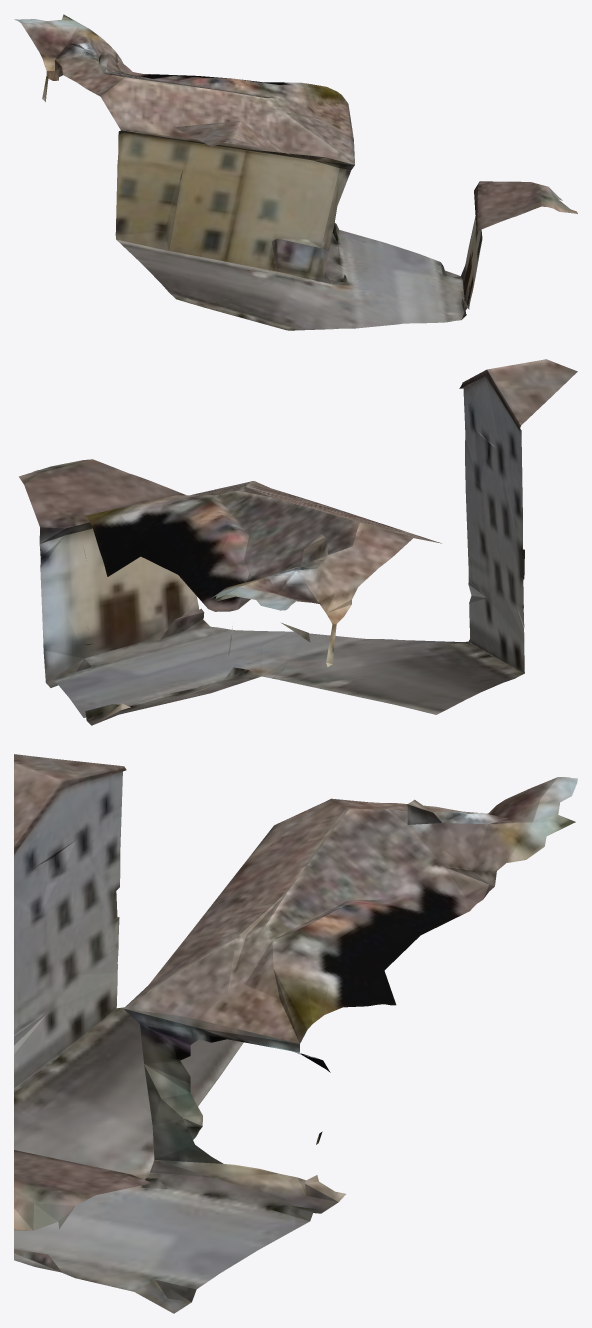
3 renders of one model, top to bottom at view 1: azimuth 30°, elevation 25°; view 2: azimuth 150°, elevation 25°; view 3: azimuth 270°, elevation 25°, orthographic. The views are drawn at different scales.
Bounding box in the file's own units: 30.05 × 19.37 × 28.09.
Materials: 1 (1 with a texture image).
